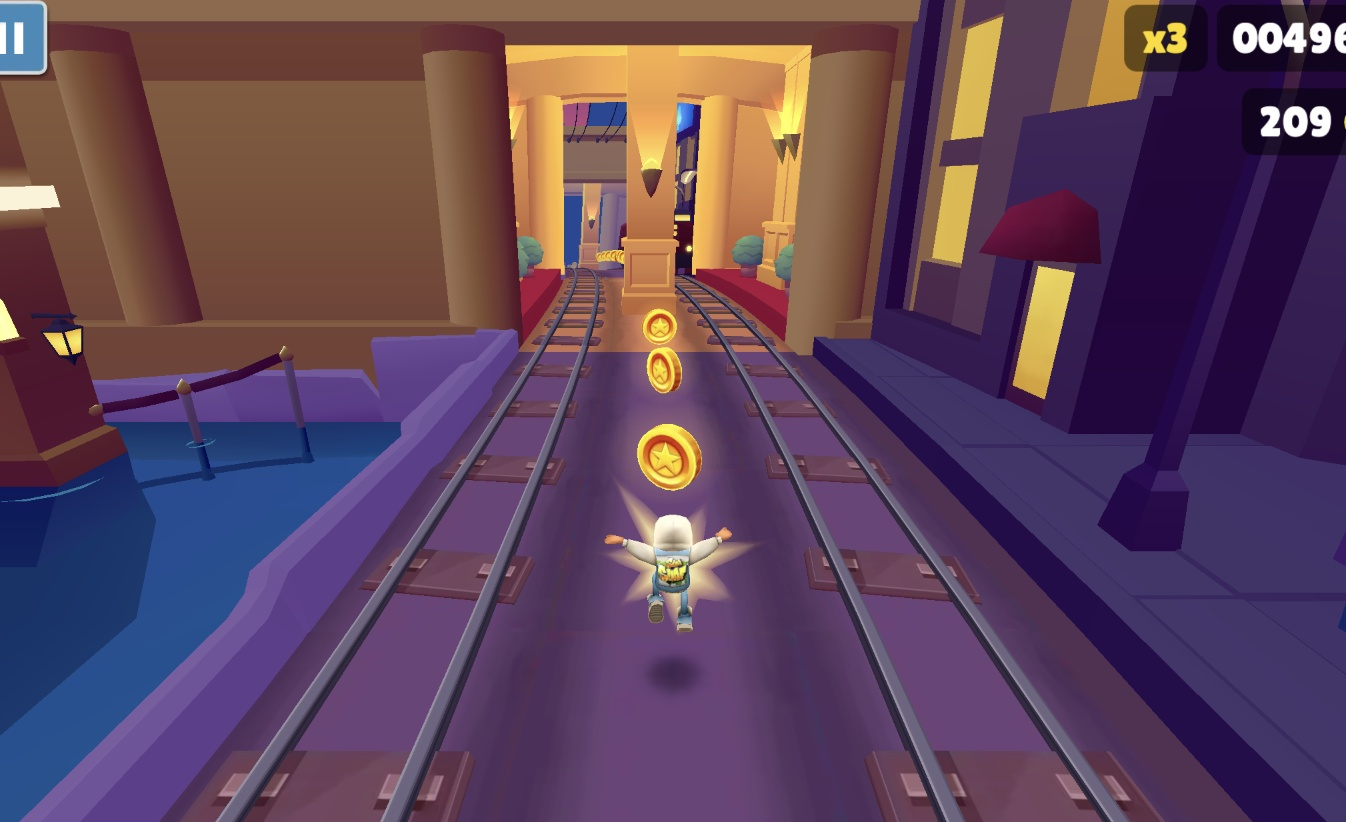pillar: (620, 46, 682, 320), (578, 180, 606, 268)
train: (678, 210, 698, 276)
